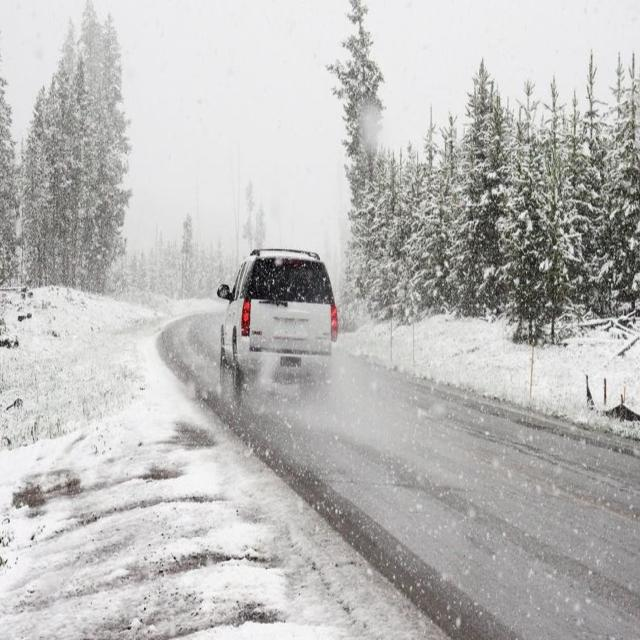car: (216, 250, 336, 384)
